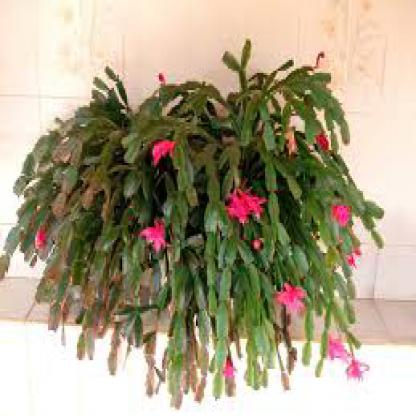Aglonema: (17, 11, 399, 402)
